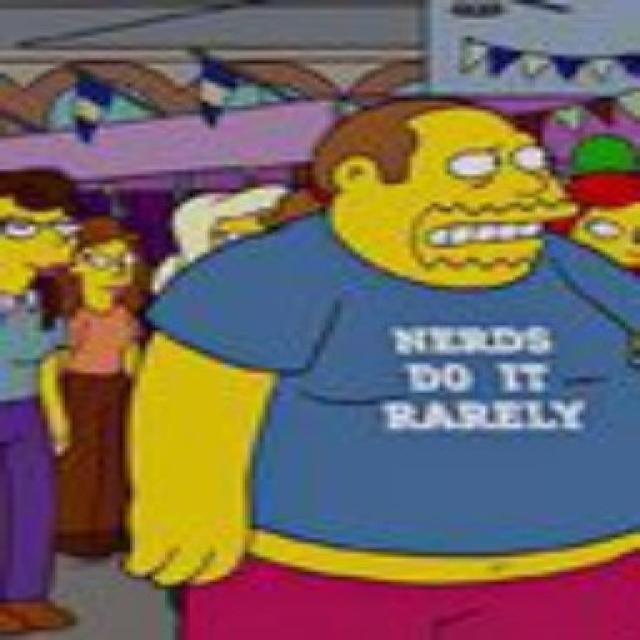Comic Book Guy: (291, 94, 584, 298)
